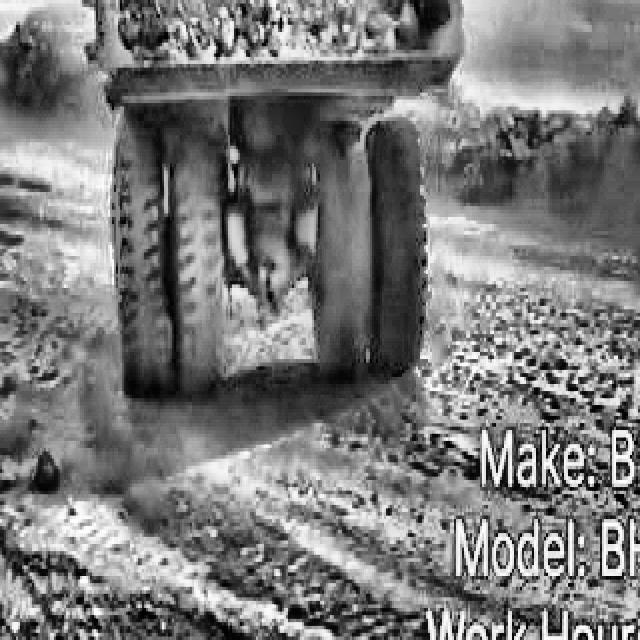dump_truck: (88, 0, 462, 373)
